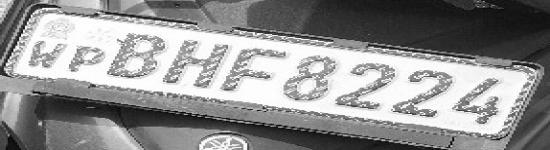2: (379, 64, 473, 124), (325, 58, 415, 114)
4: (439, 73, 518, 129)
8: (267, 47, 353, 106)
B: (106, 30, 167, 78)
F: (211, 41, 298, 98)
H: (152, 36, 241, 94)
P: (67, 43, 107, 73)
W: (27, 39, 67, 71)
